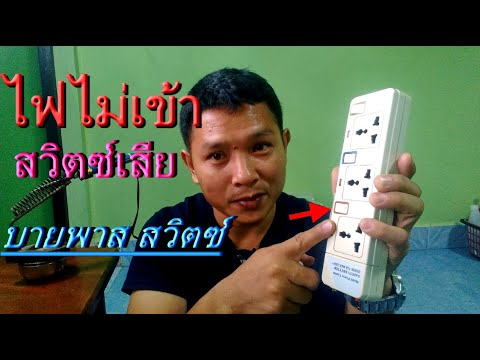Three_eye_plug: (314, 85, 414, 305)
